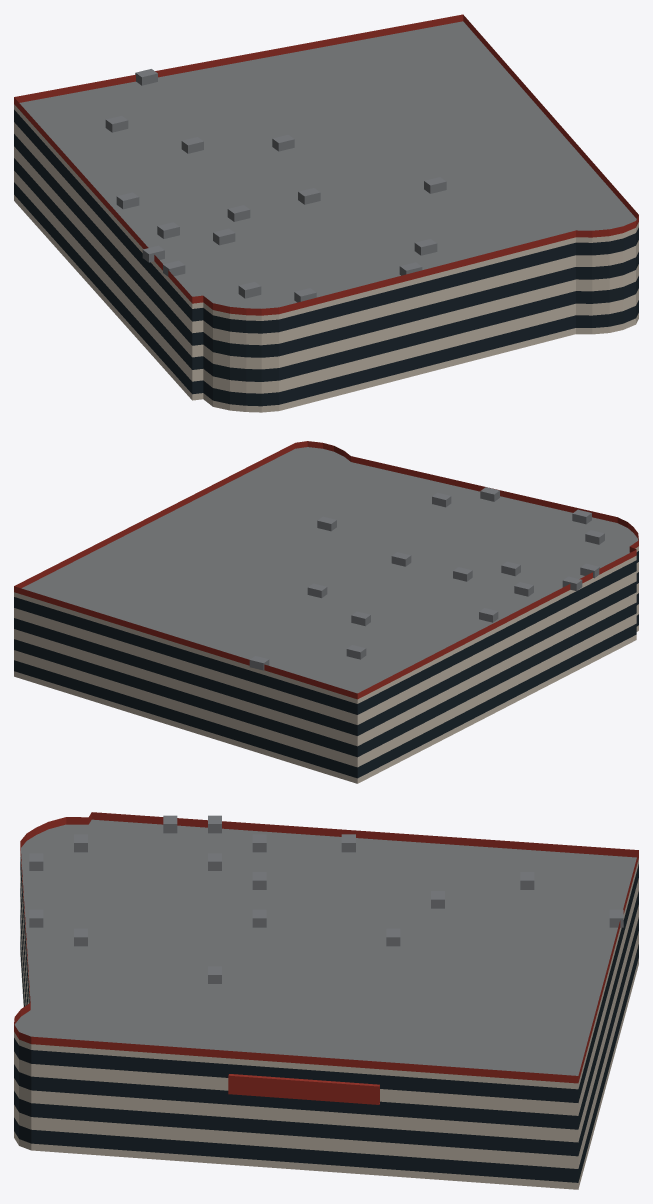
File: ciputra-seraya-mall-lod0.glb
The picture shows the model from 3 angles, top to bottom: view 1: azimuth 30°, elevation 25°; view 2: azimuth 150°, elevation 25°; view 3: azimuth 270°, elevation 25°; orthographic projection. The views are drawn at different scales.
Visible parts, largest first — view 1: ciputra-seraya-mall_LOD0; view 2: ciputra-seraya-mall_LOD0; view 3: ciputra-seraya-mall_LOD0.
Part boxes in pixels (x1,y1,x2,y2): ciputra-seraya-mall_LOD0: (14, 14, 638, 412); ciputra-seraya-mall_LOD0: (14, 441, 638, 783); ciputra-seraya-mall_LOD0: (14, 812, 638, 1189).
Size of the model in its own units: 97.9 by 20 by 98.
